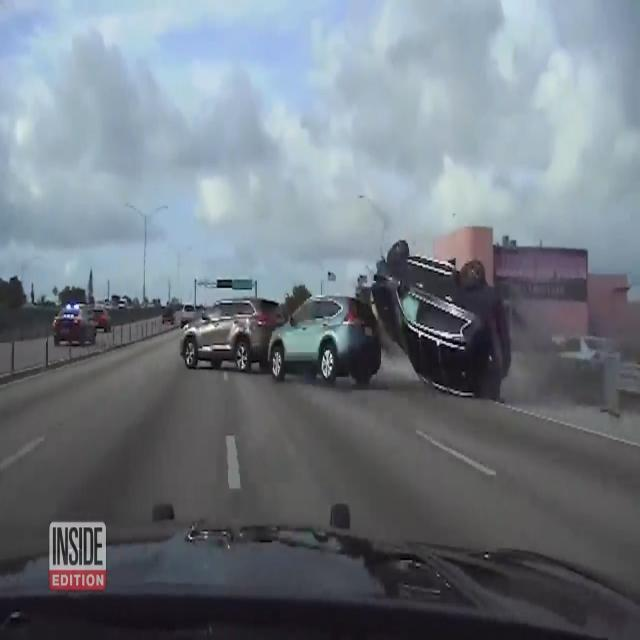accident: (375, 240, 514, 398), (168, 288, 382, 387)
